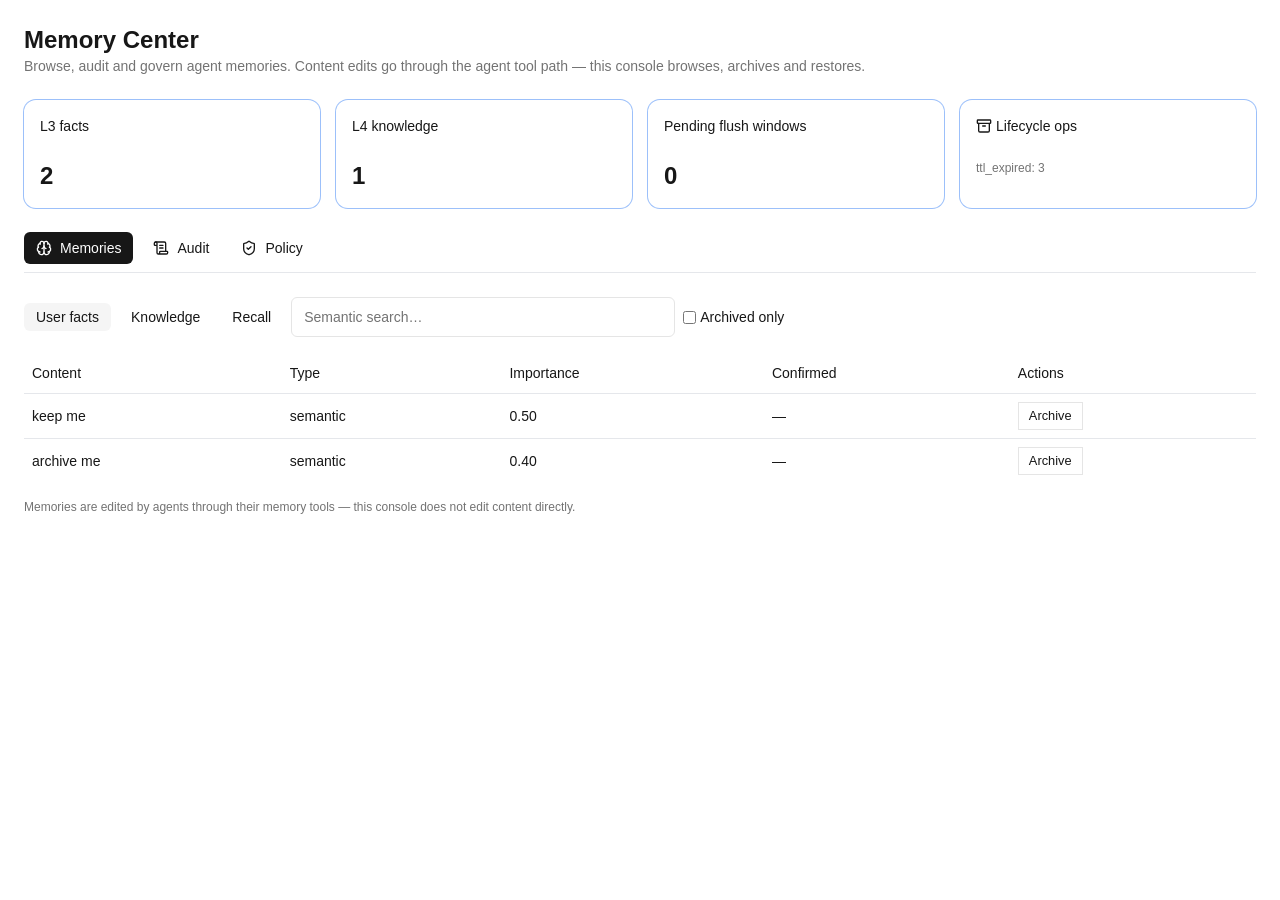
Test: MemoryCenterPage › surfaces validation errors from the policy API
Click the button with test id "section-policy": (272, 248) [229,232,315,264]
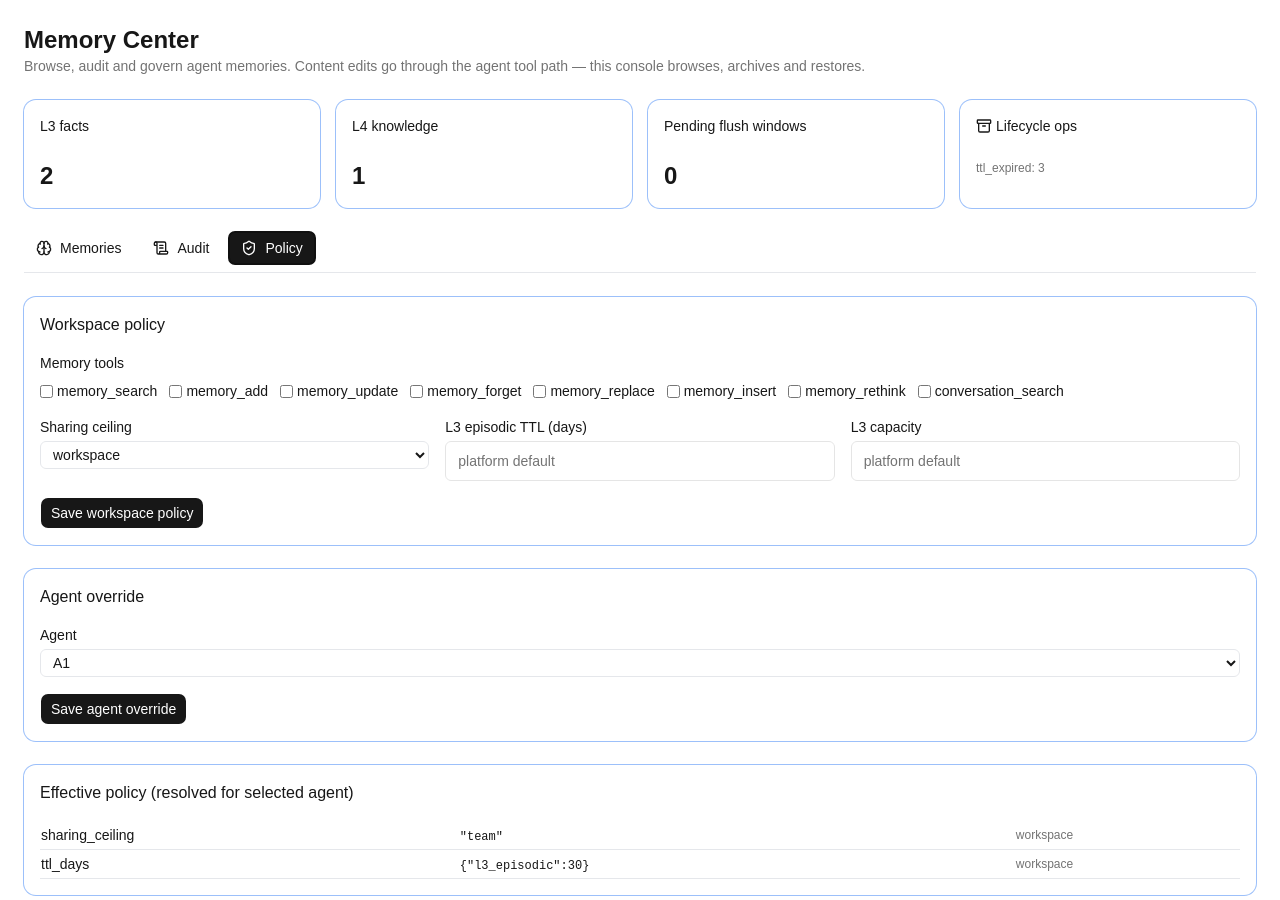
Expected: the button with test id "save-workspace-policy" is shown
Click the button with test id "save-workspace-policy": (122, 513) [40,497,204,529]
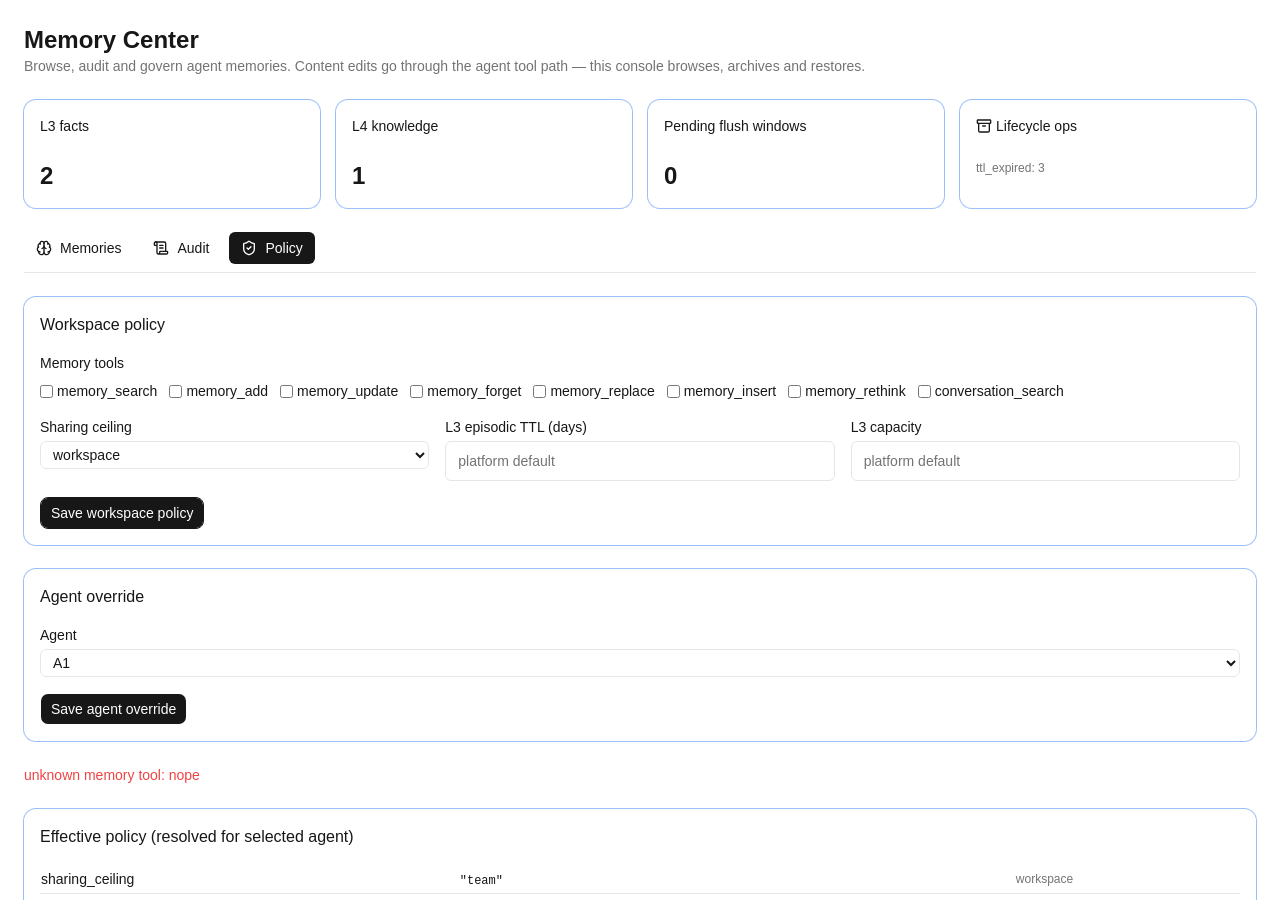
Expected: the text with test id "policy-error" shows "unknown memory tool", [24,767,200,783]
